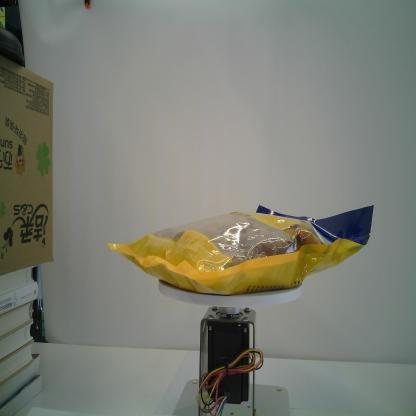Dried Food: (105, 201, 375, 294)
